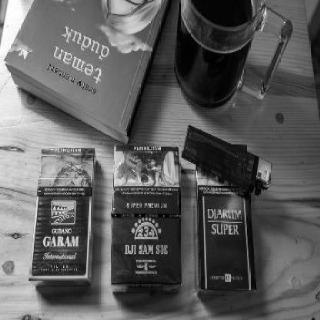objects: (110, 146, 182, 292), (28, 148, 96, 286), (196, 167, 256, 295)
